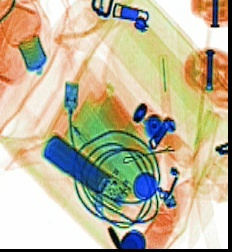powerbank: (40, 129, 135, 209)
